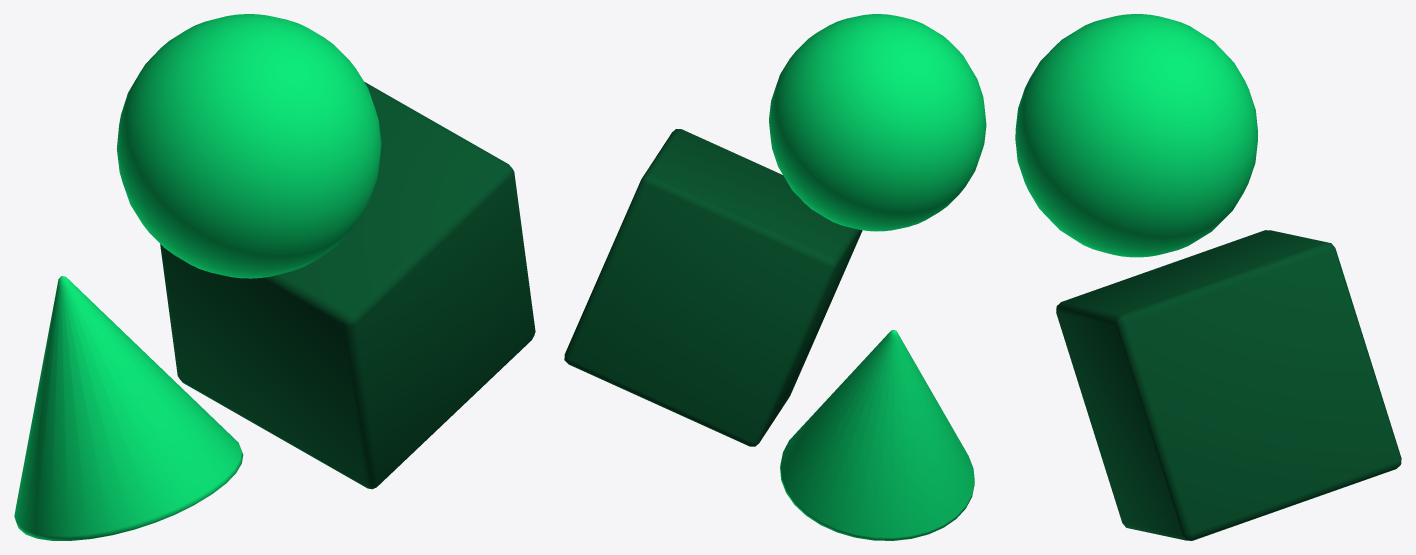
File: icon_immersive.glb
The picture shows the model from 3 angles, left to right: view 1: azimuth 30°, elevation 25°; view 2: azimuth 150°, elevation 25°; view 3: azimuth 270°, elevation 25°; orthographic projection. The views are drawn at different scales.
Parts seen in each view (by area): view 1: icon_im; view 2: icon_im; view 3: icon_im.
Boxes of the visible parts, x1=… form: icon_im: x1=14, y1=14, x2=535, y2=540; icon_im: x1=564, y1=14, x2=986, y2=540; icon_im: x1=1015, y1=14, x2=1401, y2=540.
Bounding box in the file's own units: 0.2556 × 0.2698 × 0.1961.
